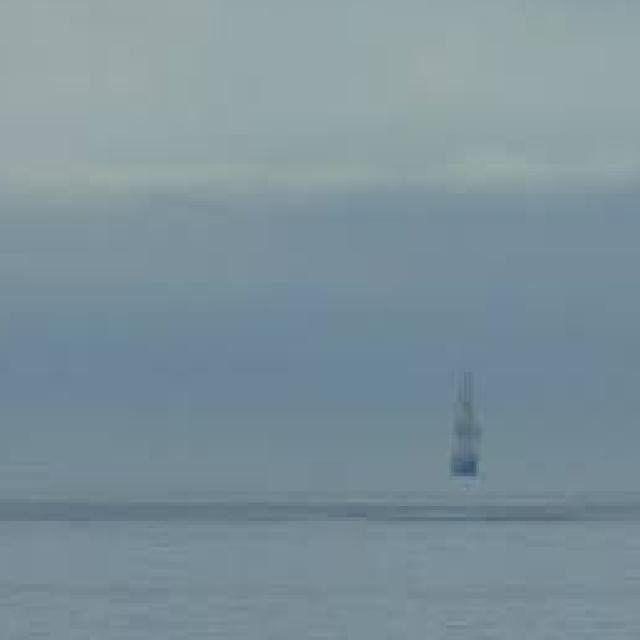fishing boat: (445, 367, 499, 494)
